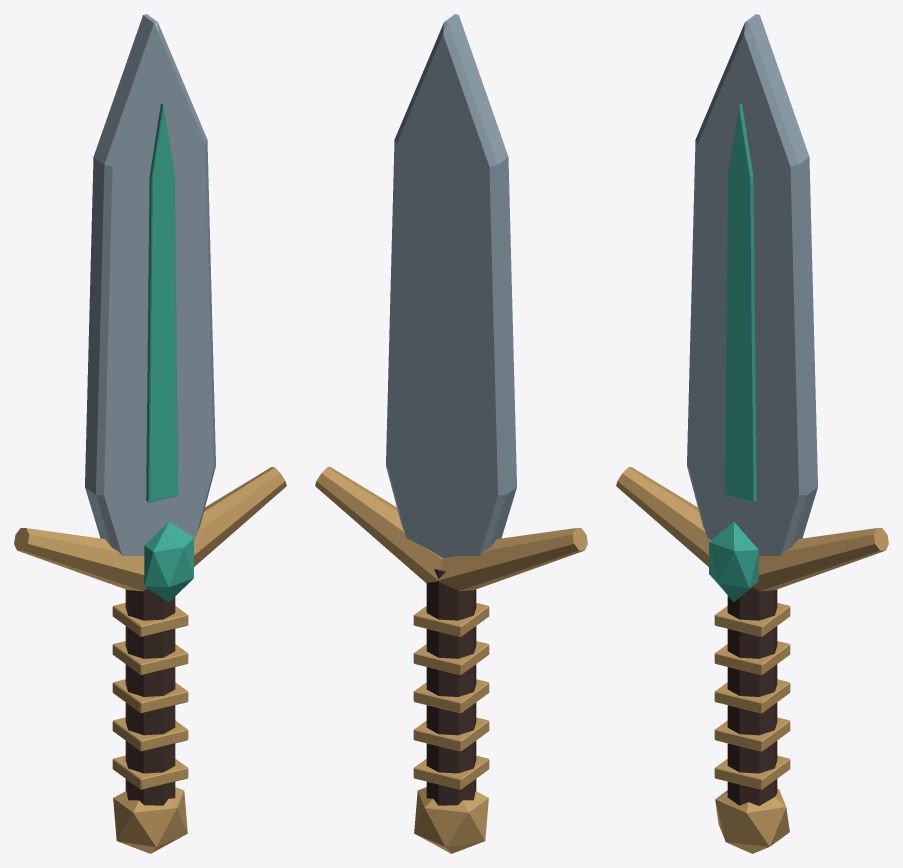
Rendered from forge-sword-v2.glb.
The picture shows the model from 3 angles, left to right: view 1: azimuth 30°, elevation 25°; view 2: azimuth 150°, elevation 25°; view 3: azimuth 330°, elevation 25°; orthographic projection.
Visible parts, largest first — view 1: forge-sword-v2; view 2: forge-sword-v2; view 3: forge-sword-v2.
Part boxes in pixels (<box>): forge-sword-v2: <box>14,14,286,853</box>; forge-sword-v2: <box>315,14,587,853</box>; forge-sword-v2: <box>616,14,888,853</box>.
Size of the model in its own units: 0.6211 by 1.86 by 0.1703.
